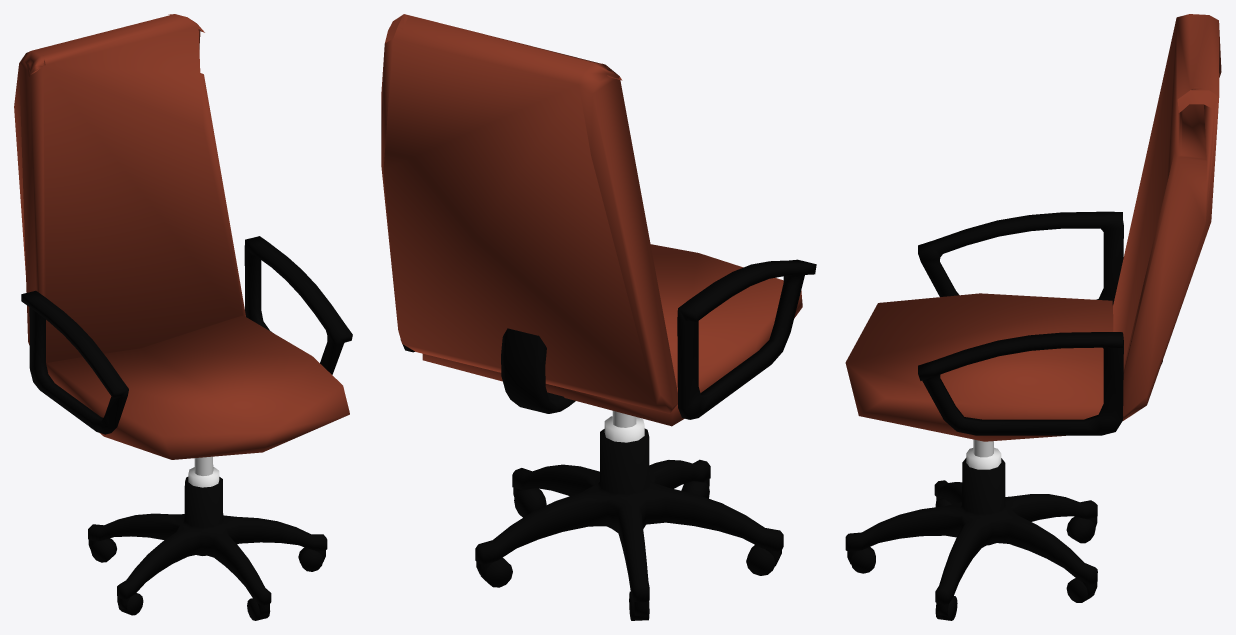
The model's file is chair 1.fbx.
The picture shows the model from 3 angles, left to right: view 1: azimuth 30°, elevation 25°; view 2: azimuth 150°, elevation 25°; view 3: azimuth 270°, elevation 25°; orthographic projection. The views are drawn at different scales.
Visible parts, largest first — view 1: backrest, plastic, wheel, metal bar; view 2: backrest, plastic, wheel, metal bar; view 3: backrest, plastic, wheel, metal bar.
Part boxes in pixels (x1,y1,x2,y2): backrest: (14, 14, 349, 459); plastic: (21, 236, 352, 616); wheel: (91, 513, 323, 620); metal bar: (188, 456, 219, 487); backrest: (381, 14, 802, 426); plastic: (400, 259, 816, 615); wheel: (480, 481, 775, 620); metal bar: (604, 411, 644, 442); backrest: (845, 14, 1221, 441); plastic: (845, 211, 1162, 615); wheel: (850, 499, 1095, 620); metal bar: (966, 439, 1001, 469).
Size of the model in its own units: 61.76 by 117 by 76.6.
